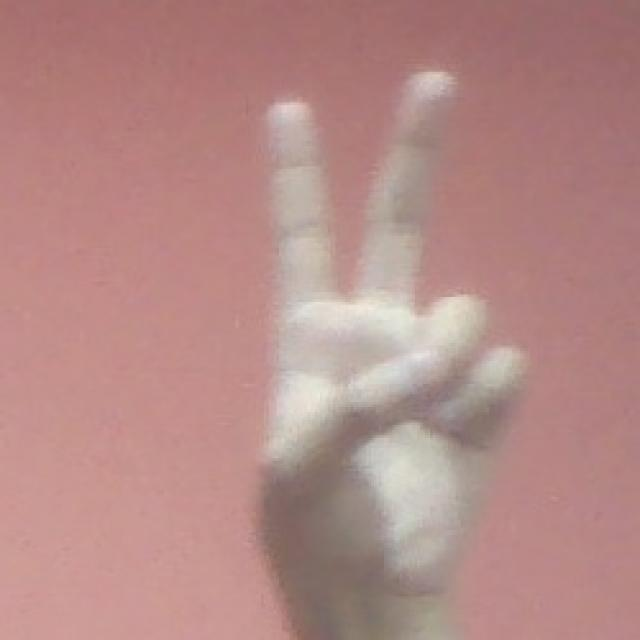Numeric-2: (266, 63, 520, 607)
